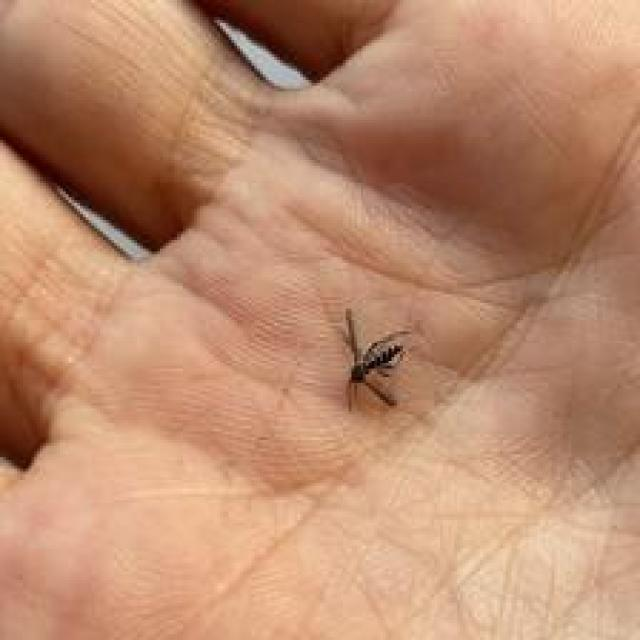Aedes albopictus: (340, 307, 411, 413)
